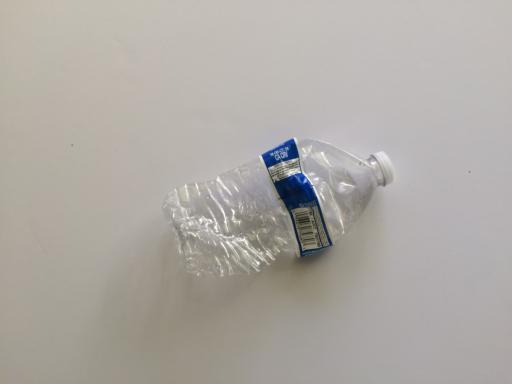plastic: (159, 137, 397, 277)
